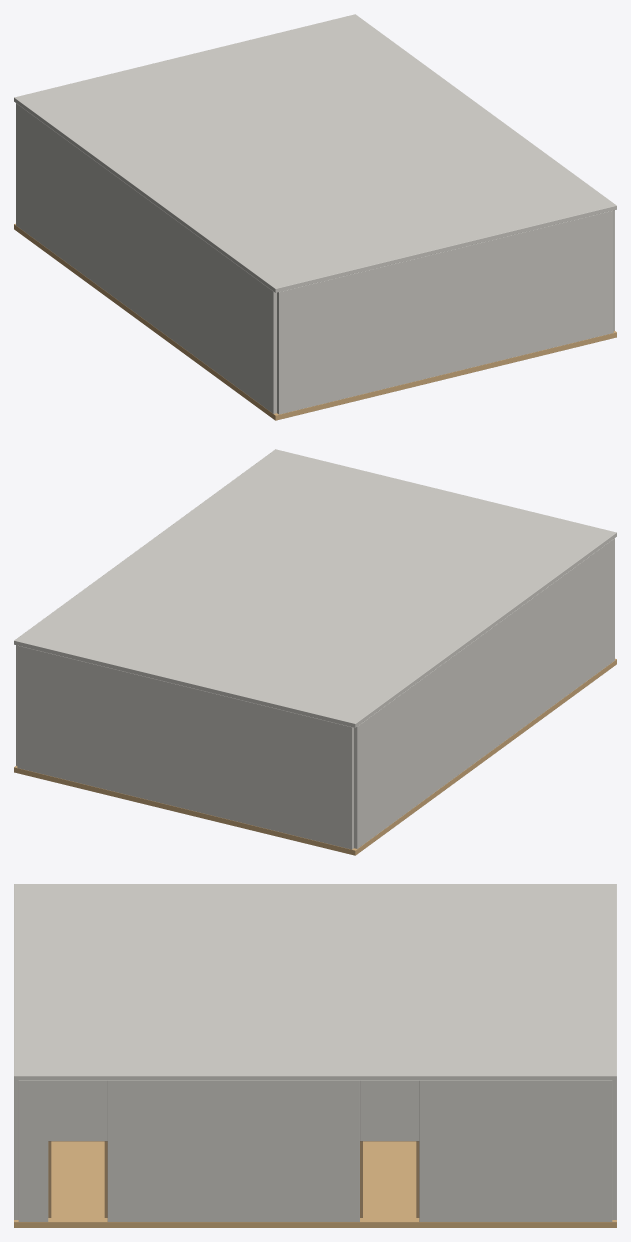
Rendered from room-holyoke.691932bd.glb.
3 renders of one model, top to bottom at view 1: azimuth 30°, elevation 25°; view 2: azimuth 150°, elevation 25°; view 3: azimuth 270°, elevation 25°, orthographic. The views are drawn at different scales.
Visible parts, largest first — view 1: holyoke__structure, holyoke__floor; view 2: holyoke__structure, holyoke__floor; view 3: holyoke__structure, holyoke__floor, holyoke__trim.
Boxes of the visible parts, <box> form: holyoke__structure: <box>14,14,616,414</box>; holyoke__floor: <box>14,223,616,420</box>; holyoke__structure: <box>14,449,616,849</box>; holyoke__floor: <box>14,658,616,855</box>; holyoke__structure: <box>14,884,616,1221</box>; holyoke__floor: <box>14,1141,616,1227</box>; holyoke__trim: <box>48,1141,419,1217</box>.
Size of the model in its own units: 12.25 by 4.52 by 16.25.
